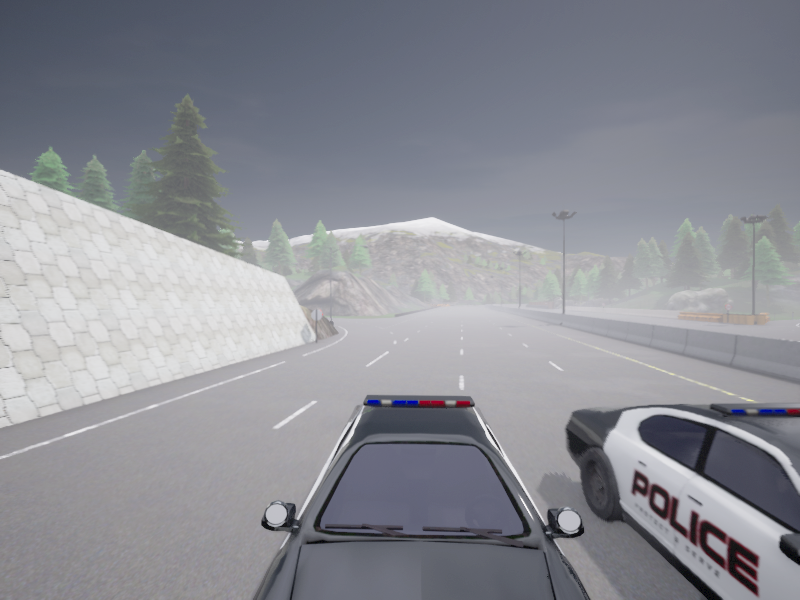vehicle: (253, 395, 590, 599), (564, 402, 799, 599)
